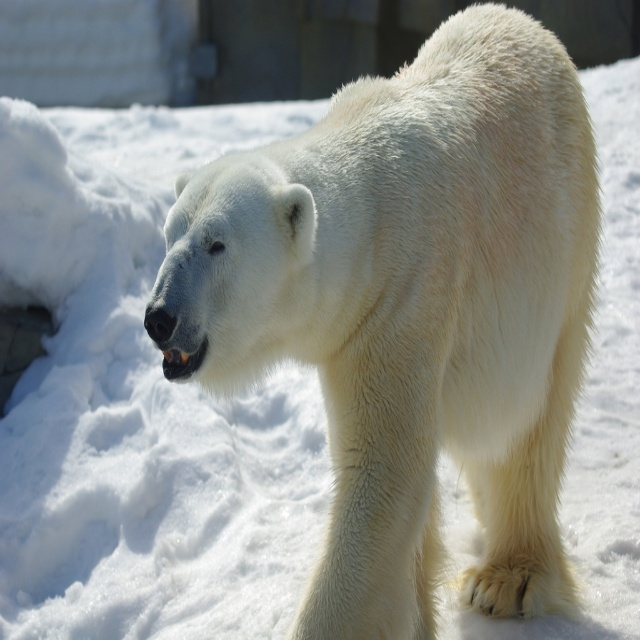Polar bear: (140, 0, 605, 639)
